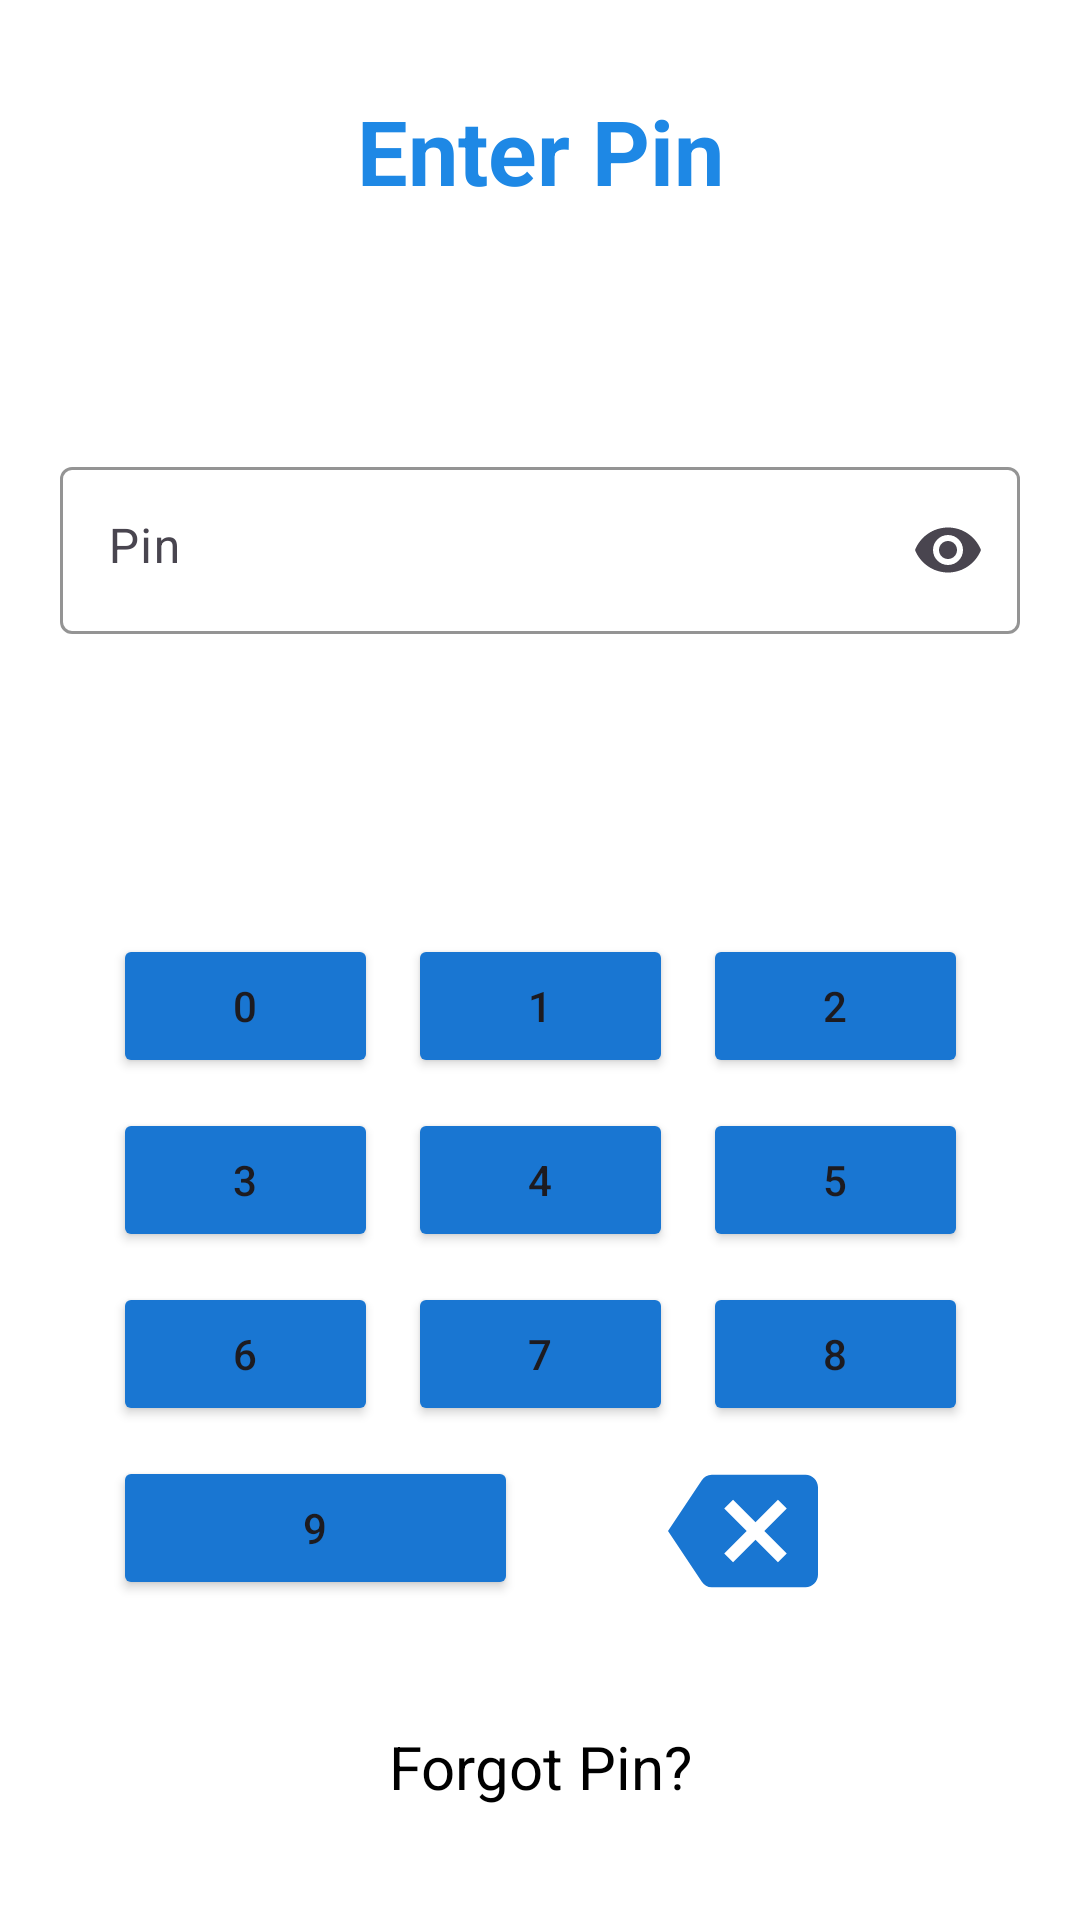

Screen size 1080x1920. Icon name, then its box in pixels as box=[x1, y1, x2, y2]:
backspace: box=[668, 1474, 818, 1588]
